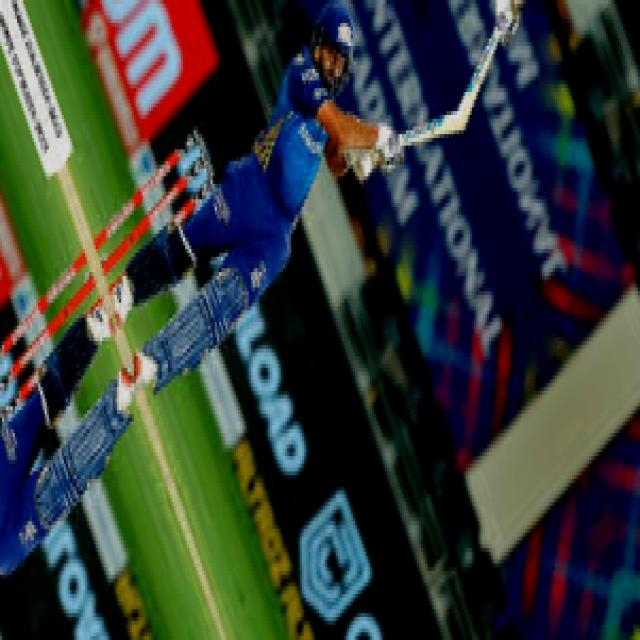toe: (452, 113, 466, 140)
